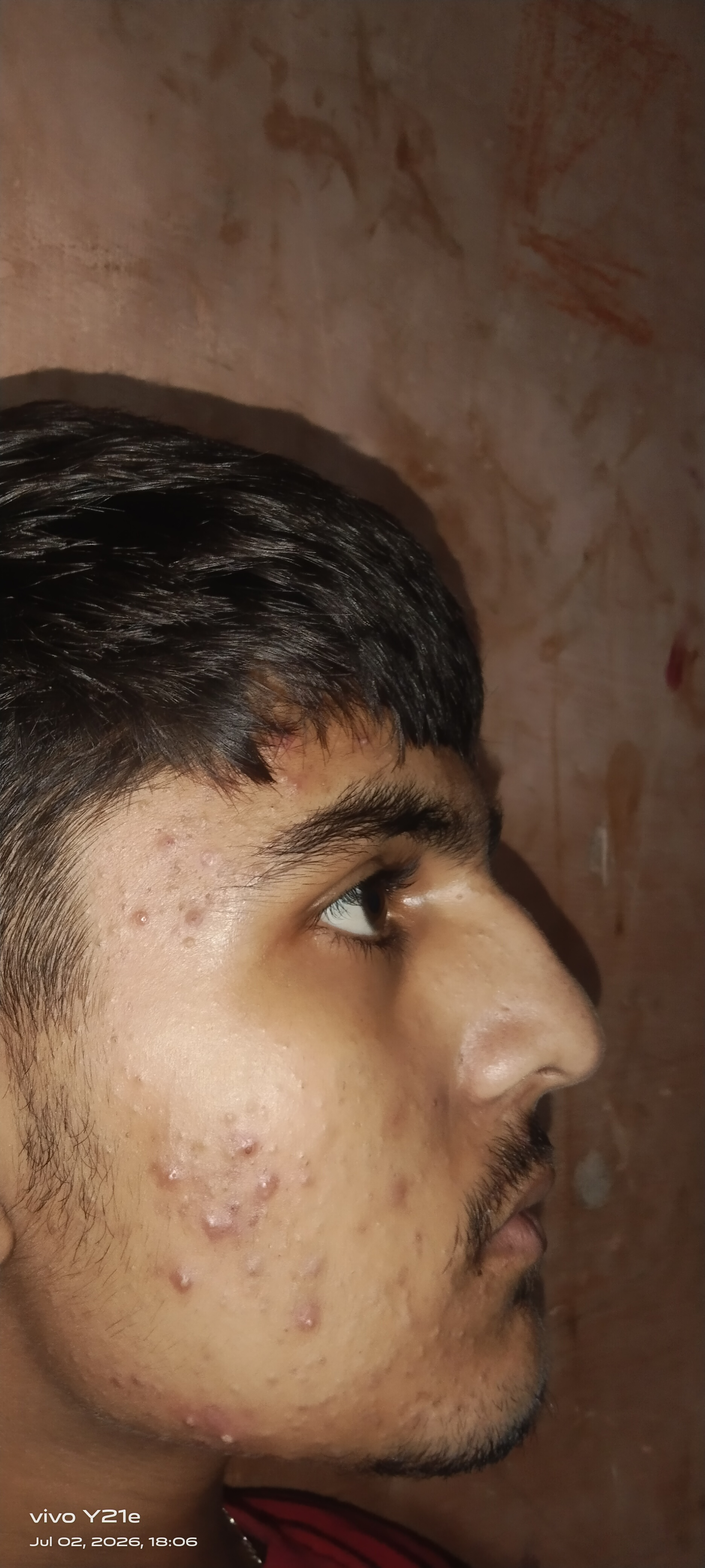closed_comedone: (424, 1321, 489, 1359)
nodule: (169, 1260, 205, 1299), (215, 1423, 253, 1453), (297, 1309, 322, 1349), (201, 1210, 231, 1238), (175, 1412, 208, 1437)
open_comedone: (295, 1150, 313, 1169), (93, 937, 108, 954), (131, 1074, 147, 1087)
pustule: (256, 1178, 278, 1202), (157, 1167, 181, 1187), (276, 773, 293, 788)
